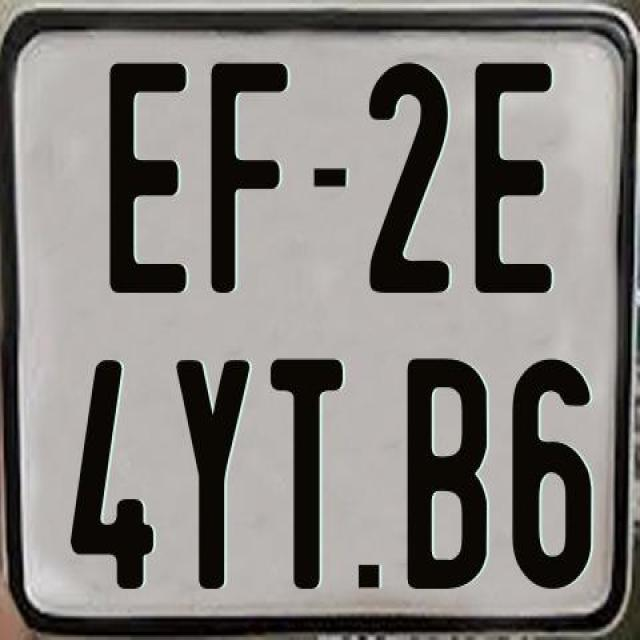2: (366, 59, 454, 291)
4: (66, 357, 158, 586)
6: (510, 356, 590, 594)
B: (406, 357, 494, 592)
E: (105, 62, 191, 301), (472, 59, 555, 299)
F: (206, 61, 288, 293)
T: (270, 358, 346, 597)
Y: (175, 358, 258, 597)
